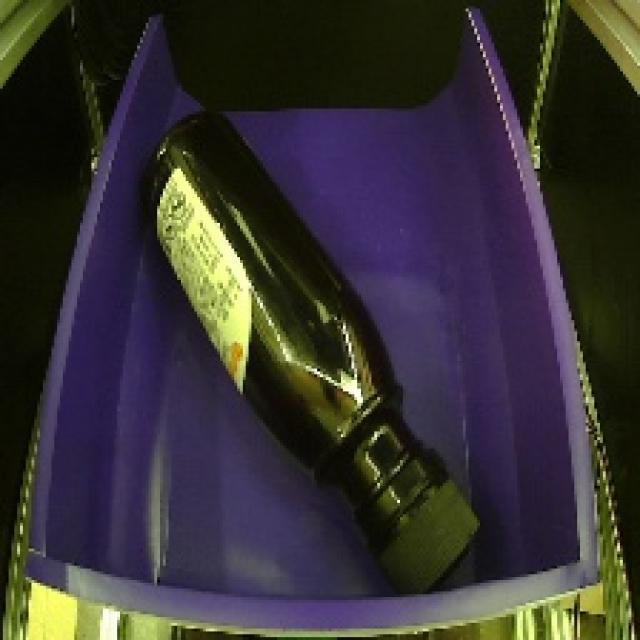plastic: (102, 85, 510, 612)
